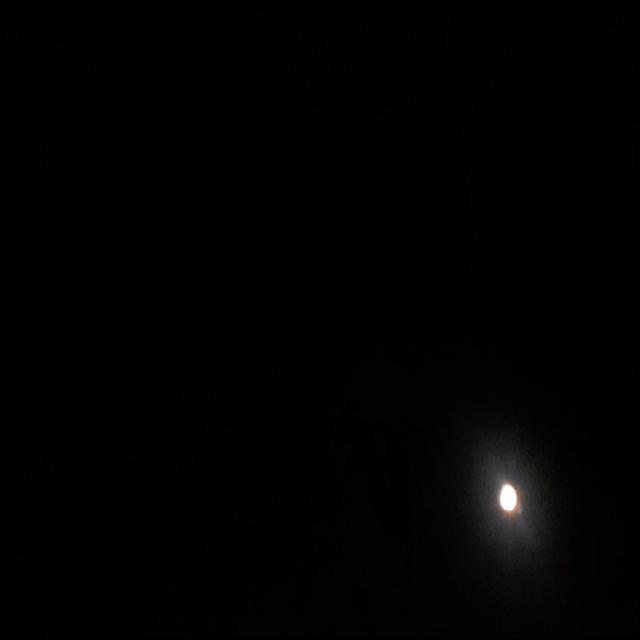moon: (498, 479, 521, 513)
